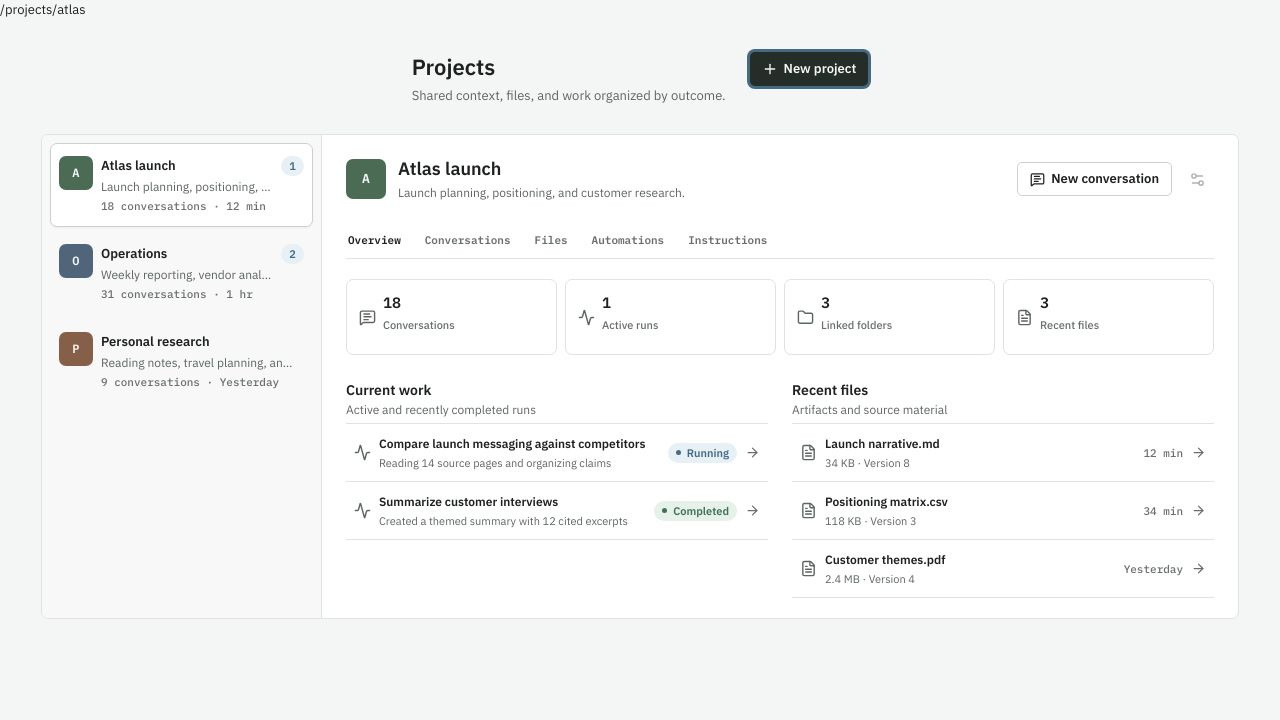
Scenario: ProjectsView › keeps a rejected creation usable and restores focus after dismissal
Expected: the heading "Atlas launch" is shown, [398,157,502,180]
Step 1. Click the button "New project" → (809, 69), box [750,52,868,86]
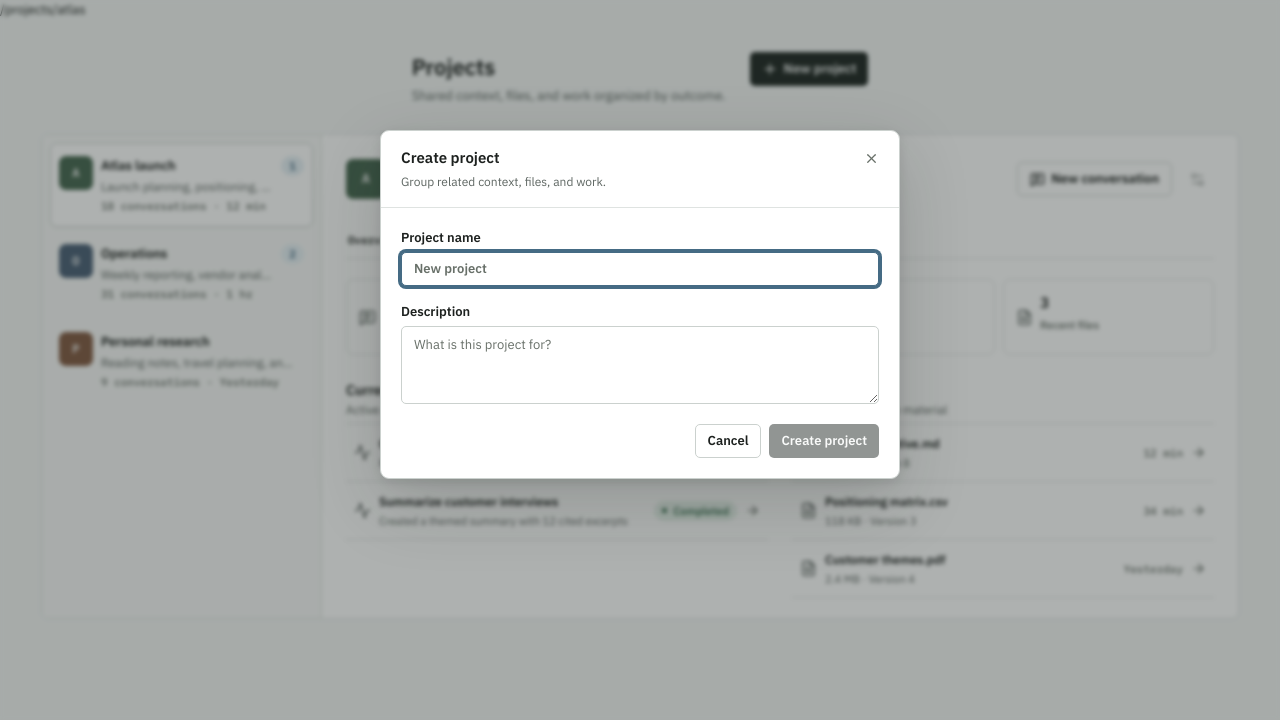
Step 2. Type "Retryable project" into the field labelled "Project name" → (640, 269), box [401,252,879,286]
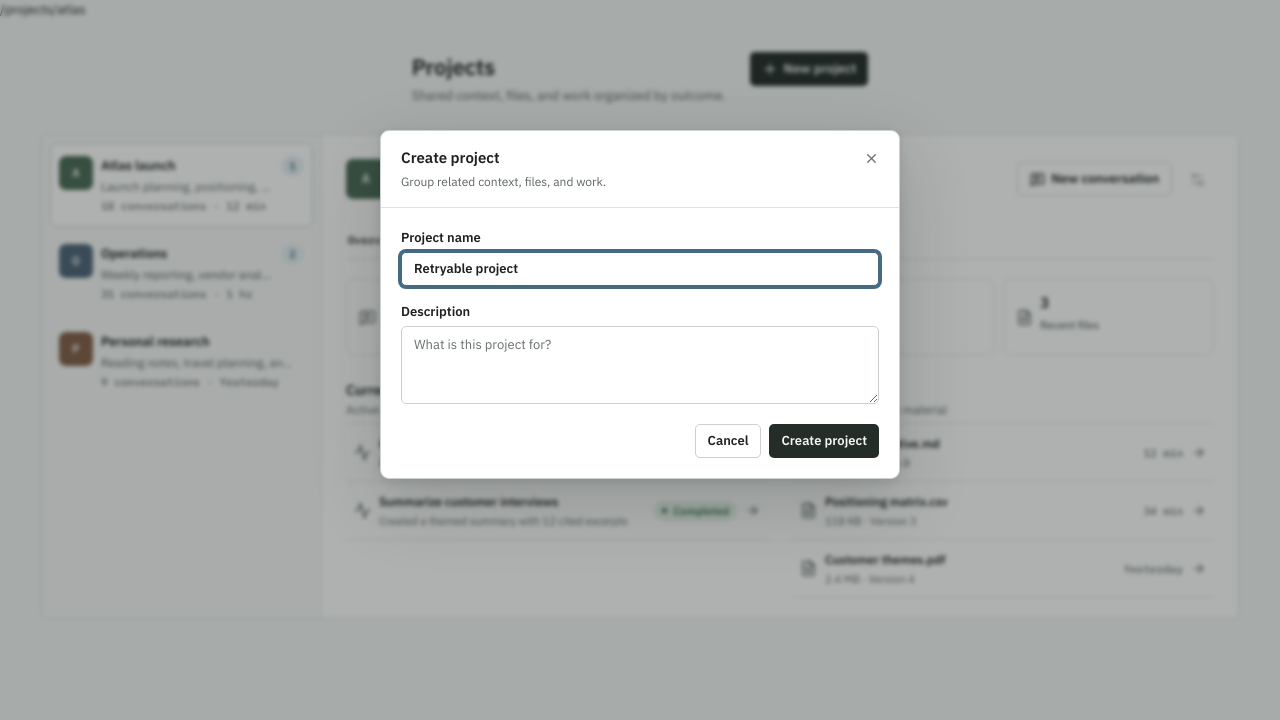
Step 3. Click the button "Create project" → (824, 441), box [770,424,879,458]
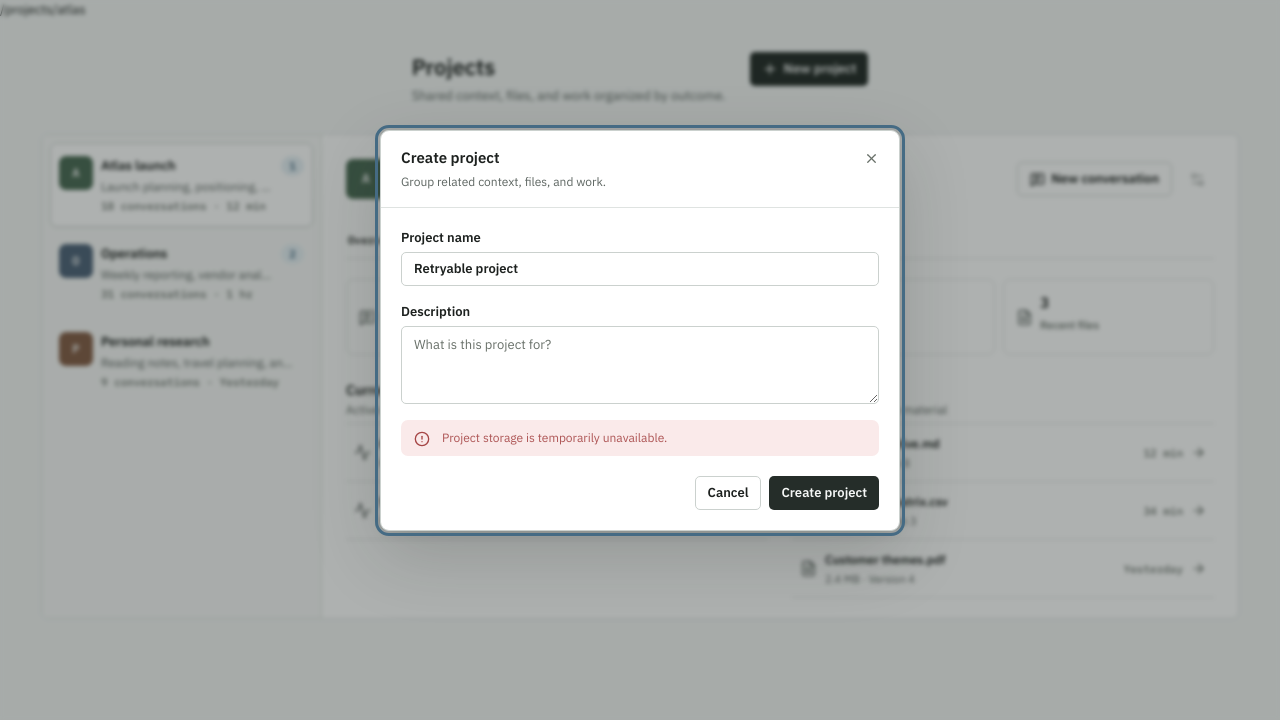
Expected: the button "Create project" is enabled, [770,476,879,510]
Expected: the message reads "Project storage is temporarily unavailable.", [442,430,667,445]
Step 4. Click the button "Cancel" → (728, 493), box [694,476,761,510]
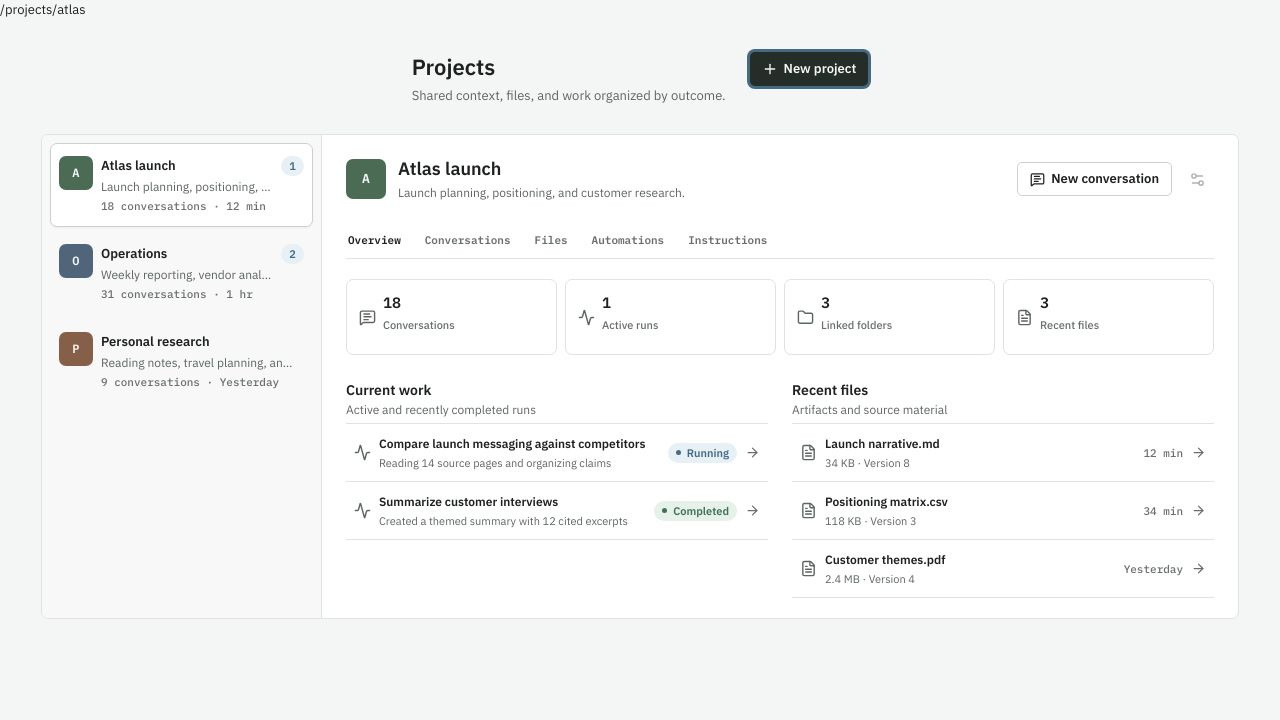
Expected: the heading "Create project" is gone
